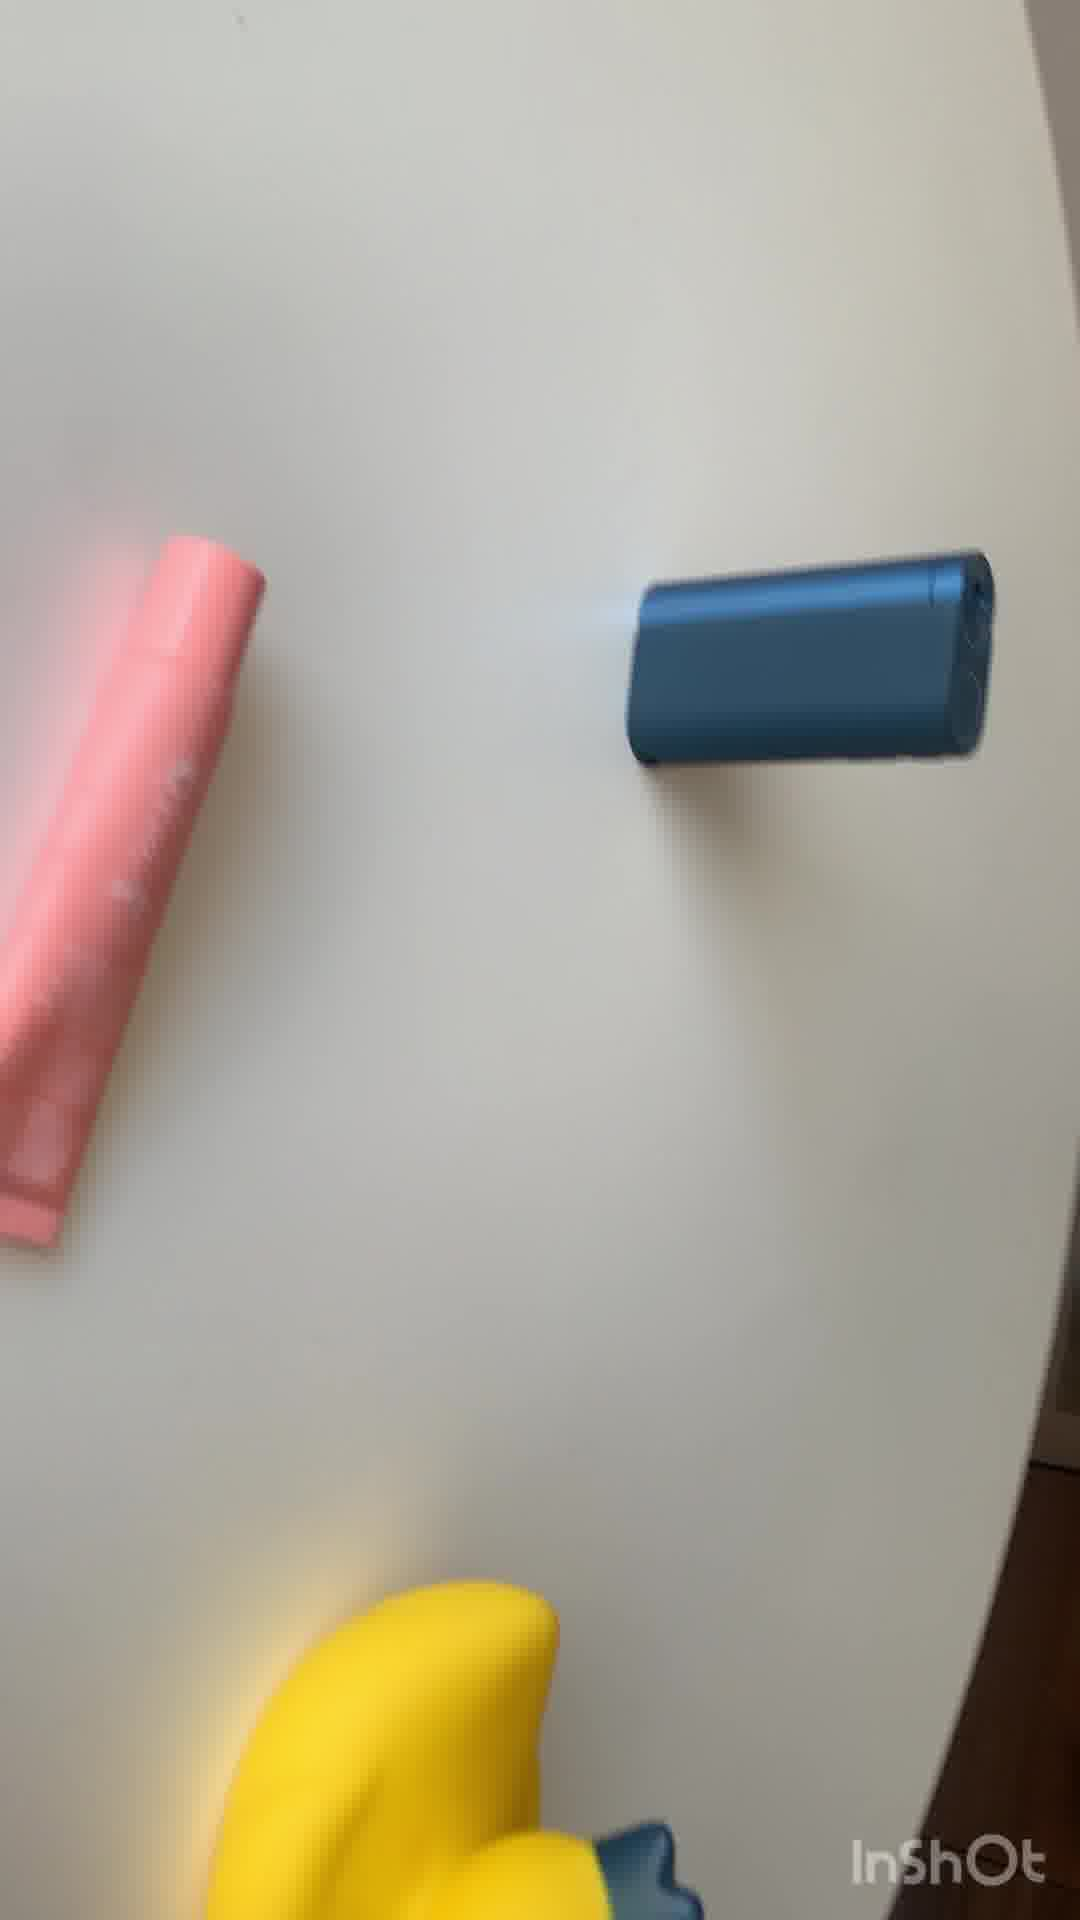duck: (203, 1575, 715, 1920)
glo: (633, 541, 992, 771)
lip balm: (1, 521, 274, 1259)
